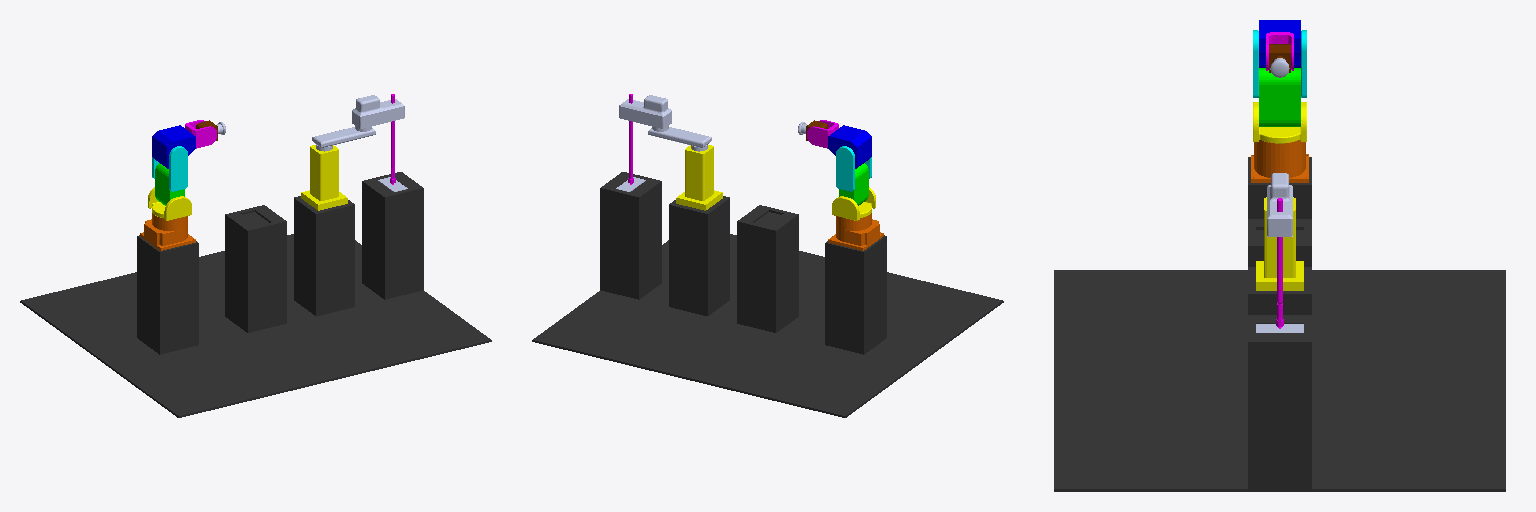
URDF robot description (station_neu):
<?xml version="1.0" encoding="utf-8"?>
<!-- This URDF was automatically created by SolidWorks to URDF Exporter! Originally created by [author] ([email redacted]) 
     Commit Version: 1.6.0-4-g7f85cfe  Build Version: 1.6.7995.38578
     For more information, please see http://wiki.ros.org/sw_urdf_exporter -->
<robot
  name="station_neu">
  
  <!--<link name="base" />

  <joint name="world_joint" type="fixed">
    <parent link="base" />
    <child link="world_link" />
    <origin xyz="0 0 0" rpy="0 0 0" />
  </joint> -->
  
<link name="dummy_base"/>

<joint name="fixed_world_joint" type="fixed">
  <parent link="dummy_base"/>
  <child link="world_link"/>
  <origin xyz="0 0 0" rpy="0 0 0"/>
</joint>
  
  <link
    name="world_link">
    <!--<inertial>-->
      <origin
        xyz="0.11667 -3.5023E-16 0.20356"
        rpy="0 0 0" />
      <mass
        value="102.18" />
      <!--<inertia
        ixx="1"
        ixy="0"
        ixz="0"
        iyy="1"
        iyz="0"
        izz="1" />
    </inertial>--> 
    <visual>
      <origin
        xyz="0 0 0"
        rpy="0 0 0" />
      <geometry>
        <mesh
          filename="package://station_neu/meshes/world_link.STL" />
      </geometry>
      <material
        name="">
        <color
          rgba="0.25098 0.25098 0.25098 1" />
      </material>
    </visual>
    <collision>
      <origin
        xyz="0 0 0"
        rpy="0 0 0" />
      <geometry>
        <mesh
          filename="package://station_neu/meshes/world_link.STL" />
      </geometry>
    </collision>
  </link>
  <link
    name="Scara_Link_Base">
    <inertial>
      <origin
        xyz="0 -4.13916398138253E-16 0.109951208906545"
        rpy="0 0 0" />
      <mass
        value="2.50365268707903" />
      <inertia
        ixx="0.0195105164196079"
        ixy="4.49986253228847E-19"
        ixz="-5.72367154351986E-19"
        iyy="0.0195105164196079"
        iyz="1.23355271719257E-18"
        izz="0.00613322448503702" />
    </inertial>
    <visual>
      <origin
        xyz="0 0 0"
        rpy="0 0 0" />
      <geometry>
        <mesh
          filename="package://station_neu/meshes/Scara_Link_Base.STL" />
      </geometry>
      <material
        name="">
        <color
          rgba="1 1 0 1" />
      </material>
    </visual>
    <collision>
      <origin
        xyz="0 0 0"
        rpy="0 0 0" />
      <geometry>
        <mesh
          filename="package://station_neu/meshes/Scara_Link_Base.STL" />
      </geometry>
    </collision>
  </link>
  <joint
    name="Scara_Joint_Base"
    type="fixed">
    <origin
      xyz="0.350000000000001 0 0.51"
      rpy="0 0 0" />
    <parent
      link="world_link" />
    <child
      link="Scara_Link_Base" />
    <axis
      xyz="0 0 0" />
  </joint>
  <link
    name="Scara_Link_1">
    <inertial>
      <origin
        xyz="0.082040070476319 -1.08746100486686E-16 0.0305105196246397"
        rpy="0 0 0" />
      <mass
        value="0.71062195084784" />
      <inertia
        ixx="0.000372083066369812"
        ixy="8.76294890679696E-09"
        ixz="1.59785787492229E-06"
        iyy="0.0035198367971286"
        iyz="-1.21105414097884E-19"
        izz="0.00384668439008065" />
    </inertial>
    <visual>
      <origin
        xyz="0 0 0"
        rpy="0 0 0" />
      <geometry>
        <mesh
          filename="package://station_neu/meshes/Scara_Link_1.STL" />
      </geometry>
      <material
        name="">
        <color
          rgba="0.792156862745098 0.819607843137255 0.933333333333333 1" />
      </material>
    </visual>
    <collision>
      <origin
        xyz="0 0 0"
        rpy="0 0 0" />
      <geometry>
        <mesh
          filename="package://station_neu/meshes/Scara_Link_1.STL" />
      </geometry>
    </collision>
  </link>
  <joint
    name="Scara_Joint_1"
    type="revolute">
    <origin
      xyz="0 0 0.26"
      rpy="0 0 0" />
    <parent
      link="Scara_Link_Base" />
    <child
      link="Scara_Link_1" />
    <axis
      xyz="0 0 1" />
    <limit
      lower="-3.1416"
      upper="3.1416"
      effort="100"
      velocity="2" />
  </joint>
  <link
    name="Scara_Link_2">
    <inertial>
      <origin
        xyz="0.0519735104401849 -0.000615042612922292 0.0651115592931846"
        rpy="0 0 0" />
      <mass
        value="0.999722132459447" />
      <inertia
        ixx="0.00127890304043025"
        ixy="3.72143052877103E-05"
        ixz="0.000471381234958871"
        iyy="0.00442319711873342"
        iyz="-5.57843000481055E-06"
        izz="0.00427083097632839" />
    </inertial>
    <visual>
      <origin
        xyz="0 0 0"
        rpy="0 0 0" />
      <geometry>
        <mesh
          filename="package://station_neu/meshes/Scara_Link_2.STL" />
      </geometry>
      <material
        name="">
        <color
          rgba="0.792156862745098 0.819607843137255 0.933333333333333 1" />
      </material>
    </visual>
    <collision>
      <origin
        xyz="0 0 0"
        rpy="0 0 0" />
      <geometry>
        <mesh
          filename="package://station_neu/meshes/Scara_Link_2.STL" />
      </geometry>
    </collision>
  </link>
  <joint
    name="Scara_Joint_2"
    type="revolute">
    <origin
      xyz="0.2 0 0.05"
      rpy="0 0 0.011833" />
    <parent
      link="Scara_Link_1" />
    <child
      link="Scara_Link_2" />
    <axis
      xyz="0 0 1" />
    <limit
      lower="-2"
      upper="2"
      effort="100"
      velocity="2" />
  </joint>
  <link
    name="Scara_Link_3">
    <inertial>
      <origin
        xyz="1.36765496573377E-05 1.5026774938004E-05 0.116430136477031"
        rpy="0 0 0" />
      <mass
        value="0.115997253663347" />
      <inertia
        ixx="0.00162112658713401"
        ixy="1.22598193040102E-08"
        ixz="-1.80201754211201E-09"
        iyy="0.00162112889854667"
        iyz="-1.98616424713082E-09"
        izz="5.22719196225459E-06" />
    </inertial>
    <visual>
      <origin
        xyz="0 0 0"
        rpy="0 0 0" />
      <geometry>
        <mesh
          filename="package://station_neu/meshes/Scara_Link_3.STL" />
      </geometry>
      <material
        name="">
        <color
          rgba="1 0 1 1" />
      </material>
    </visual>
    <collision>
      <origin
        xyz="0 0 0"
        rpy="0 0 0" />
      <geometry>
        <mesh
          filename="package://station_neu/meshes/Scara_Link_3.STL" />
      </geometry>
    </collision>
  </link>
  <joint
    name="Scara_Joint_3"
    type="prismatic">
    <origin
      xyz="0.14999 -0.001775 0.02"
      rpy="3.1416 0 0.082814" />
    <parent
      link="Scara_Link_2" />
    <child
      link="Scara_Link_3" />
    <axis
      xyz="0 0 1" />
    <limit
      lower="-0.07"
      upper="0.002"
      effort="100"
      velocity="0.2" />
  </joint>
  <link
    name="Knick_Link_Base">
    <inertial>
      <origin
        xyz="0.00128611942669327 3.58042400914017E-07 0.0617368360004532"
        rpy="0 0 0" />
      <mass
        value="3.18805790765431" />
      <inertia
        ixx="0.0108360916097952"
        ixy="1.0778046724457E-07"
        ixz="-0.000682378530740249"
        iyy="0.0116710774221464"
        iyz="5.61139425666584E-08"
        izz="0.0127157710155053" />
    </inertial>
    <visual>
      <origin
        xyz="0 0 0"
        rpy="0 0 0" />
      <geometry>
        <mesh
          filename="package://station_neu/meshes/Knick_Link_Base.STL" />
      </geometry>
      <material
        name="">
        <color
          rgba="0.909803921568627 0.443137254901961 0.0313725490196078 1" />
      </material>
    </visual>
    <collision>
      <origin
        xyz="0 0 0"
        rpy="0 0 0" />
      <geometry>
        <mesh
          filename="package://station_neu/meshes/Knick_Link_Base.STL" />
      </geometry>
    </collision>
  </link>
  <joint
    name="Knick_Joint_Base"
    type="fixed">
    <origin
      xyz="-0.45 0 0.51"
      rpy="0 0 0" />
    <parent
      link="world_link" />
    <child
      link="Knick_Link_Base" />
    <axis
      xyz="0 0 0" />
  </joint>
  <link
    name="Knick_Link_1">
    <inertial>
      <origin
        xyz="4.9960036108132E-16 -5.37480130431917E-16 0.0343975276785481"
        rpy="0 0 0" />
      <mass
        value="1.00707557532342" />
      <inertia
        ixx="0.00385102211473437"
        ixy="6.23775394359916E-10"
        ixz="4.92658147211986E-19"
        iyy="0.0019207561625128"
        iyz="5.67930587973647E-19"
        izz="0.00434738361070071" />
    </inertial>
    <visual>
      <origin
        xyz="0 0 0"
        rpy="0 0 0" />
      <geometry>
        <mesh
          filename="package://station_neu/meshes/Knick_Link_1.STL" />
      </geometry>
      <material
        name="">
        <color
          rgba="1 1 0 1" />
      </material>
    </visual>
    <collision>
      <origin
        xyz="0 0 0"
        rpy="0 0 0" />
      <geometry>
        <mesh
          filename="package://station_neu/meshes/Knick_Link_1.STL" />
      </geometry>
    </collision>
  </link>
  <joint
    name="Knick_Joint_1"
    type="revolute">
    <origin
      xyz="0.0104999999999995 0 0.135"
      rpy="0 0 0" />
    <parent
      link="Knick_Link_Base" />
    <child
      link="Knick_Link_1" />
    <axis
      xyz="0 0 1" />
    <limit
      lower="-3.1416"
      upper="3.1416"
      effort="0"
      velocity="0" />
  </joint>
  <link
    name="Knick_Link_2">
    <inertial>
      <origin
        xyz="-6.52740583806377E-10 -0.0599992742466233 5.87878219883058E-07"
        rpy="0 0 0" />
      <mass
        value="1.35536530570178" />
      <inertia
        ixx="0.00340678769029806"
        ixy="-5.86601662213092E-10"
        ixz="-6.43243808763956E-10"
        iyy="0.0026906883868499"
        iyz="7.16206802163247E-14"
        izz="0.00213791141814024" />
    </inertial>
    <visual>
      <origin
        xyz="0 0 0"
        rpy="0 0 0" />
      <geometry>
        <mesh
          filename="package://station_neu/meshes/Knick_Link_2.STL" />
      </geometry>
      <material
        name="">
        <color
          rgba="0 1 0 1" />
      </material>
    </visual>
    <collision>
      <origin
        xyz="0 0 0"
        rpy="0 0 0" />
      <geometry>
        <mesh
          filename="package://station_neu/meshes/Knick_Link_2.STL" />
      </geometry>
    </collision>
  </link>
  <joint
    name="Knick_Joint_2"
    type="revolute">
    <origin
      xyz="0 0 0.0600000000000006"
      rpy="-1.57079632679491 0 0" />
    <parent
      link="Knick_Link_1" />
    <child
      link="Knick_Link_2" />
    <axis
      xyz="0 0 1" />
    <limit
      lower="-1.8"
      upper="1.8"
      effort="100"
      velocity="2" />
  </joint>
  <link
    name="Knick_Link_3">
    <inertial>
      <origin
        xyz="-0.0575499251416763 7.21644966006352E-16 5.87876713632118E-07"
        rpy="0 0 0" />
      <mass
        value="1.06598978839683" />
      <inertia
        ixx="0.00474318187244463"
        ixy="-1.98065605564113E-19"
        ixz="2.50871738428352E-18"
        iyy="0.0080173732559331"
        iyz="4.10281583826252E-19"
        izz="0.00420327013994247" />
    </inertial>
    <visual>
      <origin
        xyz="0 0 0"
        rpy="0 0 0" />
      <geometry>
        <mesh
          filename="package://station_neu/meshes/Knick_Link_3.STL" />
      </geometry>
      <material
        name="">
        <color
          rgba="0 1 1 1" />
      </material>
    </visual>
    <collision>
      <origin
        xyz="0 0 0"
        rpy="0 0 0" />
      <geometry>
        <mesh
          filename="package://station_neu/meshes/Knick_Link_3.STL" />
      </geometry>
    </collision>
  </link>
  <joint
    name="Knick_Joint_3"
    type="revolute">
    <origin
      xyz="0 -0.119999999999999 0"
      rpy="0 0 1.5707963267949" />
    <parent
      link="Knick_Link_2" />
    <child
      link="Knick_Link_3" />
    <axis
      xyz="0 0 1" />
    <limit
      lower="-1.8"
      upper="1.8"
      effort="100"
      velocity="2" />
  </joint>
  <link
    name="Knick_Link_4">
    <inertial>
      <origin
        xyz="-0.0123461980766574 -0.0172605923851256 5.87876712340623E-07"
        rpy="0 0 0" />
      <mass
        value="2.04666620981605" />
      <inertia
        ixx="0.00654782221736673"
        ixy="-0.000881414246096526"
        ixz="-6.23301869240812E-19"
        iyy="0.0059499921389293"
        iyz="-6.16451572044363E-18"
        izz="0.00659163741079009" />
    </inertial>
    <visual>
      <origin
        xyz="0 0 0"
        rpy="0 0 0" />
      <geometry>
        <mesh
          filename="package://station_neu/meshes/Knick_Link_4.STL" />
      </geometry>
      <material
        name="">
        <color
          rgba="0 0 1 1" />
      </material>
    </visual>
    <collision>
      <origin
        xyz="0 0 0"
        rpy="0 0 0" />
      <geometry>
        <mesh
          filename="package://station_neu/meshes/Knick_Link_4.STL" />
      </geometry>
    </collision>
  </link>
  <joint
    name="Knick_Joint_4"
    type="revolute">
    <origin
      xyz="-0.12 0 0"
      rpy="0 0 0" />
    <parent
      link="Knick_Link_3" />
    <child
      link="Knick_Link_4" />
    <axis
      xyz="0 0 1" />
    <limit
      lower="-3.1416"
      upper="1"
      effort="50"
      velocity="2" />
  </joint>
  <link
    name="Knick_Link_5">
    <inertial>
      <origin
        xyz="-9.17603970118641E-06 3.58277260409535E-05 0.144921673296194"
        rpy="0 0 0" />
      <mass
        value="0.325688517709461" />
      <inertia
        ixx="0.000784405454959843"
        ixy="-6.35288561358632E-11"
        ixz="-8.27859229596081E-08"
        iyy="0.000627897905556097"
        iyz="2.96273660768042E-07"
        izz="0.000542980209868071" />
    </inertial>
    <visual>
      <origin
        xyz="0 0 0"
        rpy="0 0 0" />
      <geometry>
        <mesh
          filename="package://station_neu/meshes/Knick_Link_5.STL" />
      </geometry>
      <material
        name="">
        <color
          rgba="1 0 1 1" />
      </material>
    </visual>
    <collision>
      <origin
        xyz="0 0 0"
        rpy="0 0 0" />
      <geometry>
        <mesh
          filename="package://station_neu/meshes/Knick_Link_5.STL" />
      </geometry>
    </collision>
  </link>
  <joint
    name="Knick_Joint_5"
    type="revolute">
    <origin
      xyz="-0.0425000000000004 0 0"
      rpy="-1.5707963267949 0 3.14159265358979" />
    <parent
      link="Knick_Link_4" />
    <child
      link="Knick_Link_5" />
    <axis
      xyz="0 0 1" />
    <limit
      lower="-3.1416"
      upper="3.1416"
      effort="30"
      velocity="2" />
  </joint>
  <link
    name="Knick_Link_6">
    <inertial>
      <origin
        xyz="0 0.0031135658703155 -1.166917188077E-06"
        rpy="0 0 0" />
      <mass
        value="0.318196109669744" />
      <inertia
        ixx="0.000296373081861996"
        ixy="9.89818585521294E-21"
        ixz="4.64368647316017E-20"
        iyy="0.000269774523273202"
        iyz="1.74510257709105E-08"
        izz="0.000310319948975258" />
    </inertial>
    <visual>
      <origin
        xyz="0 0 0"
        rpy="0 0 0" />
      <geometry>
        <mesh
          filename="package://station_neu/meshes/Knick_Link_6.STL" />
      </geometry>
      <material
        name="">
        <color
          rgba="0.486274509803922 0.235294117647059 0.0156862745098039 1" />
      </material>
    </visual>
    <collision>
      <origin
        xyz="0 0 0"
        rpy="0 0 0" />
      <geometry>
        <mesh
          filename="package://station_neu/meshes/Knick_Link_6.STL" />
      </geometry>
    </collision>
  </link>
  <joint
    name="Knick_Joint_6"
    type="revolute">
    <origin
      xyz="0 0 0.187253487985988"
      rpy="1.5707963267949 0 0" />
    <parent
      link="Knick_Link_5" />
    <child
      link="Knick_Link_6" />
    <axis
      xyz="0 0 1" />
    <limit
      lower="-3.1416"
      upper="3.1416"
      effort="30"
      velocity="2" />
  </joint>
  <link
    name="Knick_Link_7">
    <inertial>
      <origin
        xyz="-1.06753534456772E-07 -1.57372225696792E-07 0.0221291023471828"
        rpy="0 0 0" />
      <mass
        value="0.0780517503035172" />
      <inertia
        ixx="2.28791002653248E-05"
        ixy="3.67501956368013E-16"
        ixz="6.61667618962374E-11"
        iyy="2.28791002645871E-05"
        iyz="2.73372220827156E-11"
        izz="2.51698737337599E-05" />
    </inertial>
    <visual>
      <origin
        xyz="0 0 0"
        rpy="0 0 0" />
      <geometry>
        <mesh
          filename="package://station_neu/meshes/Knick_Link_7.STL" />
      </geometry>
      <material
        name="">
        <color
          rgba="0.792156862745098 0.819607843137255 0.933333333333333 1" />
      </material>
    </visual>
    <collision>
      <origin
        xyz="0 0 0"
        rpy="0 0 0" />
      <geometry>
        <mesh
          filename="package://station_neu/meshes/Knick_Link_7.STL" />
      </geometry>
    </collision>
  </link>
  <joint
    name="Knick_Joint_7"
    type="continuous">
    <origin
      xyz="0 0.0474465120140123 0"
      rpy="-1.5707963267949 0 0" />
    <parent
      link="Knick_Link_6" />
    <child
      link="Knick_Link_7" />
    <axis
      xyz="0 0 1" />
    <limit
      lower="-3.1416"
      upper="3.1416"
      effort="30"
      velocity="2" />
  </joint>
  <link
    name="Handy_Link">
    <inertial>
      <origin
        xyz="0.000999999999998002 -3.33066907387547E-16 -0.005"
        rpy="0 0 0" />
      <mass
        value="0.10366" />
      <inertia
        ixx="0.000184998546666667"
        ixy="-7.50981322845493E-21"
        ixz="-3.21339724939038E-22"
        iyy="4.44096716666666E-05"
        iyz="1.03055675249273E-21"
        izz="0.000227680551666667" />
    </inertial>
    <visual>
      <origin
        xyz="0 0 0"
        rpy="0 0 0" />
      <geometry>
        <mesh
          filename="package://station_neu/meshes/Handy_Link.STL" />
      </geometry>
      <material
        name="">
        <color
          rgba="0.792156862745098 0.819607843137255 0.933333333333333 1" />
      </material>
    </visual>
    <collision>
      <origin
        xyz="0 0 0"
        rpy="0 0 0" />
      <geometry>
        <mesh
          filename="package://station_neu/meshes/Handy_Link.STL" />
      </geometry>
    </collision>
  </link>
  <joint
    name="Handy_Joint"
    type="fixed">
    <origin
      xyz="0.7 0 0.51"
      rpy="0 0 0" />
    <parent
      link="world_link" />
    <child
      link="Handy_Link" />
    <axis
      xyz="0 0 0" />
  </joint>
  
  
	<transmission name="Scara_Joint_1_trans">
	  <type>transmission_interface/SimpleTransmission</type>
	  <joint name="Scara_Joint_1">
	    <hardwareInterface>hardware_interface/PositionJointInterface</hardwareInterface>
	  </joint>
	  <actuator name="Scara_Motor_1">
	    <hardwareInterface>hardware_interface/PositionJointInterface</hardwareInterface>
	    <mechanicalReduction>1</mechanicalReduction>
	  </actuator>
	</transmission>

	<transmission name="Scara_Joint_2_trans">
	  <type>transmission_interface/SimpleTransmission</type>
	  <joint name="Scara_Joint_2">
	    <hardwareInterface>hardware_interface/PositionJointInterface</hardwareInterface>
	  </joint>
	  <actuator name="Scara_Motor_2">
	    <hardwareInterface>hardware_interface/PositionJointInterface</hardwareInterface>
	    <mechanicalReduction>1</mechanicalReduction>
	  </actuator>
	</transmission>

	<transmission name="Scara_Joint_3_trans">
	  <type>transmission_interface/SimpleTransmission</type>
	  <joint name="Scara_Joint_3">
	    <hardwareInterface>hardware_interface/PositionJointInterface</hardwareInterface>
	  </joint>
	  <actuator name="Scara_Motor_3">
	    <hardwareInterface>hardware_interface/PositionJointInterface</hardwareInterface>
	    <mechanicalReduction>1</mechanicalReduction>
	  </actuator>
	</transmission>

	<transmission name="Knick_Joint_1_trans">
	  <type>transmission_interface/SimpleTransmission</type>
	  <joint name="Knick_Joint_1">
	    <hardwareInterface>hardware_interface/PositionJointInterface</hardwareInterface>
	  </joint>
	  <actuator name="Knick_Motor_1">
	    <hardwareInterface>hardware_interface/PositionJointInterface</hardwareInterface>
	    <mechanicalReduction>1</mechanicalReduction>
	  </actuator>
	</transmission>

	<transmission name="Knick_Joint_2_trans">
	  <type>transmission_interface/SimpleTransmission</type>
	  <joint name="Knick_Joint_2">
	    <hardwareInterface>hardware_interface/PositionJointInterface</hardwareInterface>
	  </joint>
	  <actuator name="Knick_Motor_2">
	    <hardwareInterface>hardware_interface/PositionJointInterface</hardwareInterface>
	    <mechanicalReduction>1</mechanicalReduction>
	  </actuator>
	</transmission>

	<transmission name="Knick_Joint_3_trans">
	  <type>transmission_interface/SimpleTransmission</type>
	  <joint name="Knick_Joint_3">
	    <hardwareInterface>hardware_interface/PositionJointInterface</hardwareInterface>
	  </joint>
	  <actuator name="Knick_Motor_3">
	    <hardwareInterface>hardware_interface/PositionJointInterface</hardwareInterface>
	    <mechanicalReduction>1</mechanicalReduction>
	  </actuator>
	</transmission>

	<transmission name="Knick_Joint_4_trans">
	  <type>transmission_interface/SimpleTransmission</type>
	  <joint name="Knick_Joint_4">
	    <hardwareInterface>hardware_interface/PositionJointInterface</hardwareInterface>
	  </joint>
	  <actuator name="Knick_Motor_4">
	    <hardwareInterface>hardware_interface/PositionJointInterface</hardwareInterface>
	    <mechanicalReduction>1</mechanicalReduction>
	  </actuator>
	</transmission>

	<transmission name="Knick_Joint_5_trans">
	  <type>transmission_interface/SimpleTransmission</type>
	  <joint name="Knick_Joint_5">
	    <hardwareInterface>hardware_interface/PositionJointInterface</hardwareInterface>
	  </joint>
	  <actuator name="Knick_Motor_5">
	    <hardwareInterface>hardware_interface/PositionJointInterface</hardwareInterface>
	    <mechanicalReduction>1</mechanicalReduction>
	  </actuator>
	</transmission>

	<transmission name="Knick_Joint_6_trans">
	  <type>transmission_interface/SimpleTransmission</type>
	  <joint name="Knick_Joint_6">
	    <hardwareInterface>hardware_interface/PositionJointInterface</hardwareInterface>
	  </joint>
	  <actuator name="Knick_Motor_6">
	    <hardwareInterface>hardware_interface/PositionJointInterface</hardwareInterface>
	    <mechanicalReduction>1</mechanicalReduction>
	  </actuator>
	</transmission>
	
	<transmission name="Knick_Joint_7_trans">
	  <type>transmission_interface/SimpleTransmission</type>
	  <joint name="Knick_Joint_7">
	    <hardwareInterface>hardware_interface/PositionJointInterface</hardwareInterface>
	  </joint>
	  <actuator name="Knick_Motor_7">
	    <hardwareInterface>hardware_interface/PositionJointInterface</hardwareInterface>
	    <mechanicalReduction>1</mechanicalReduction>
	  </actuator>
	</transmission>
  
  <gazebo>
    <plugin name="gazebo_ros_control" filename="libgazebo_ros_control.so" />
  </gazebo>
  
</robot>

--- Render facts (derived) ---
3 views of the same robot in one strip: view 1: azimuth 30°, elevation 25°; view 2: azimuth 150°, elevation 25°; view 3: azimuth 270°, elevation 25° (orthographic).
Robot: station_neu — 15 links, 14 joints (8 revolute, 1 continuous, 1 prismatic, 4 fixed); root link dummy_base; default pose: every joint at zero.
Visible links, largest first — view 1: world_link, Scara_Link_Base, Scara_Link_2, Knick_Link_Base, Knick_Link_4, Knick_Link_3, Knick_Link_1, Scara_Link_1, Knick_Link_2; view 2: world_link, Scara_Link_Base, Scara_Link_2, Knick_Link_Base, Knick_Link_4, Knick_Link_3, Knick_Link_1, Scara_Link_1, Knick_Link_2; view 3: world_link, Knick_Link_2, Scara_Link_Base, Knick_Link_Base, Scara_Link_2, Knick_Link_1, Knick_Link_4, Knick_Link_3, Scara_Link_3.
Link boxes in pixels (x1,y1,x2,y2): world_link: [20, 172, 491, 417]; Scara_Link_Base: [301, 145, 347, 210]; Scara_Link_2: [352, 95, 404, 131]; Knick_Link_Base: [140, 213, 195, 250]; Knick_Link_4: [152, 125, 195, 168]; Knick_Link_3: [152, 146, 187, 191]; Knick_Link_1: [148, 187, 191, 220]; Scara_Link_1: [312, 127, 375, 151]; Knick_Link_2: [155, 163, 184, 205]; world_link: [532, 172, 1003, 417]; Scara_Link_Base: [676, 145, 722, 210]; Scara_Link_2: [619, 95, 671, 131]; Knick_Link_Base: [828, 213, 883, 250]; Knick_Link_4: [828, 125, 871, 168]; Knick_Link_3: [836, 146, 871, 191]; Knick_Link_1: [832, 187, 875, 220]; Scara_Link_1: [648, 127, 711, 151]; Knick_Link_2: [839, 163, 868, 205]; world_link: [1054, 157, 1505, 491]; Knick_Link_2: [1259, 68, 1300, 126]; Scara_Link_Base: [1256, 197, 1303, 290]; Knick_Link_Base: [1251, 140, 1308, 182]; Scara_Link_2: [1267, 173, 1292, 236]; Knick_Link_1: [1253, 102, 1306, 143]; Knick_Link_4: [1259, 20, 1300, 67]; Knick_Link_3: [1253, 30, 1306, 97]; Scara_Link_3: [1276, 198, 1283, 328].
Bounding box of the posed robot: 1.6 × 1.4 × 1.03 m (x, y, z).
14 mesh visuals loaded from 14 distinct referenced files (14 binary STL).